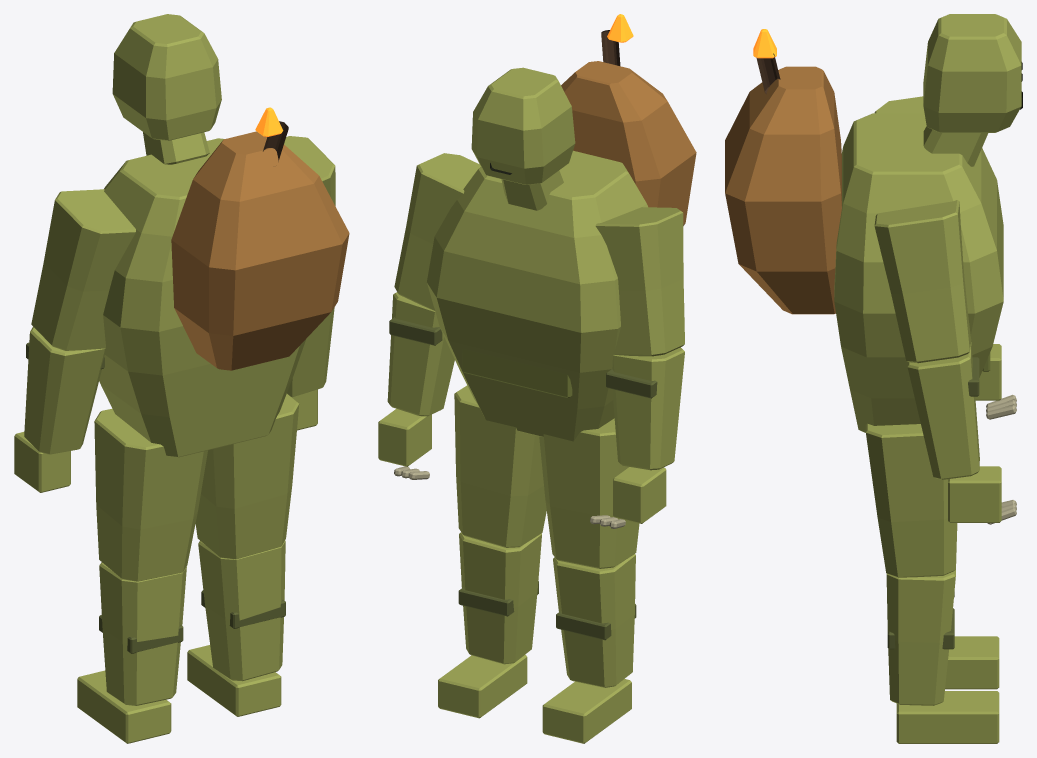
File: mdl_mon_bomber_normal_v1.glb
3 views of the same model, side by side, from view 1: azimuth 30°, elevation 25°; view 2: azimuth 150°, elevation 25°; view 3: azimuth 270°, elevation 25° (orthographic). The views are drawn at different scales.
Parts seen in each view (by area): view 1: GEO_Mon_Body, GEO_Mon_Gear; view 2: GEO_Mon_Body, GEO_Mon_Gear; view 3: GEO_Mon_Body, GEO_Mon_Gear.
Part boxes in pixels (bbox=[...]): GEO_Mon_Body: bbox=[14, 14, 335, 743]; GEO_Mon_Gear: bbox=[26, 107, 349, 653]; GEO_Mon_Body: bbox=[378, 67, 684, 743]; GEO_Mon_Gear: bbox=[389, 14, 696, 640]; GEO_Mon_Body: bbox=[834, 14, 1022, 743]; GEO_Mon_Gear: bbox=[725, 29, 979, 649].
Bounding box in the file's own units: 0.7935 × 1.77 × 0.7014.
